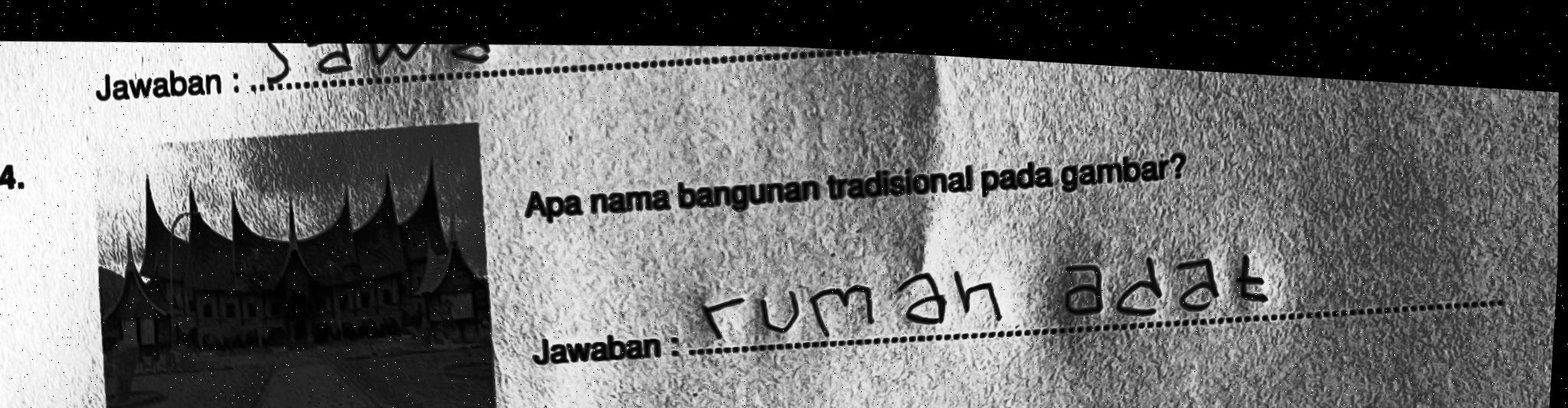jawaban: (691, 237, 1275, 354)
